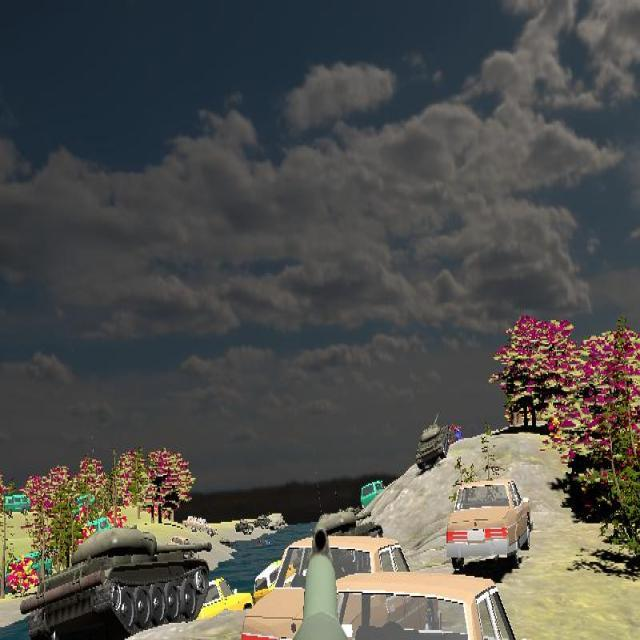Tank: (21, 526, 212, 639), (416, 411, 448, 471)
car: (237, 575, 640, 640), (239, 538, 461, 639), (446, 476, 531, 574)
